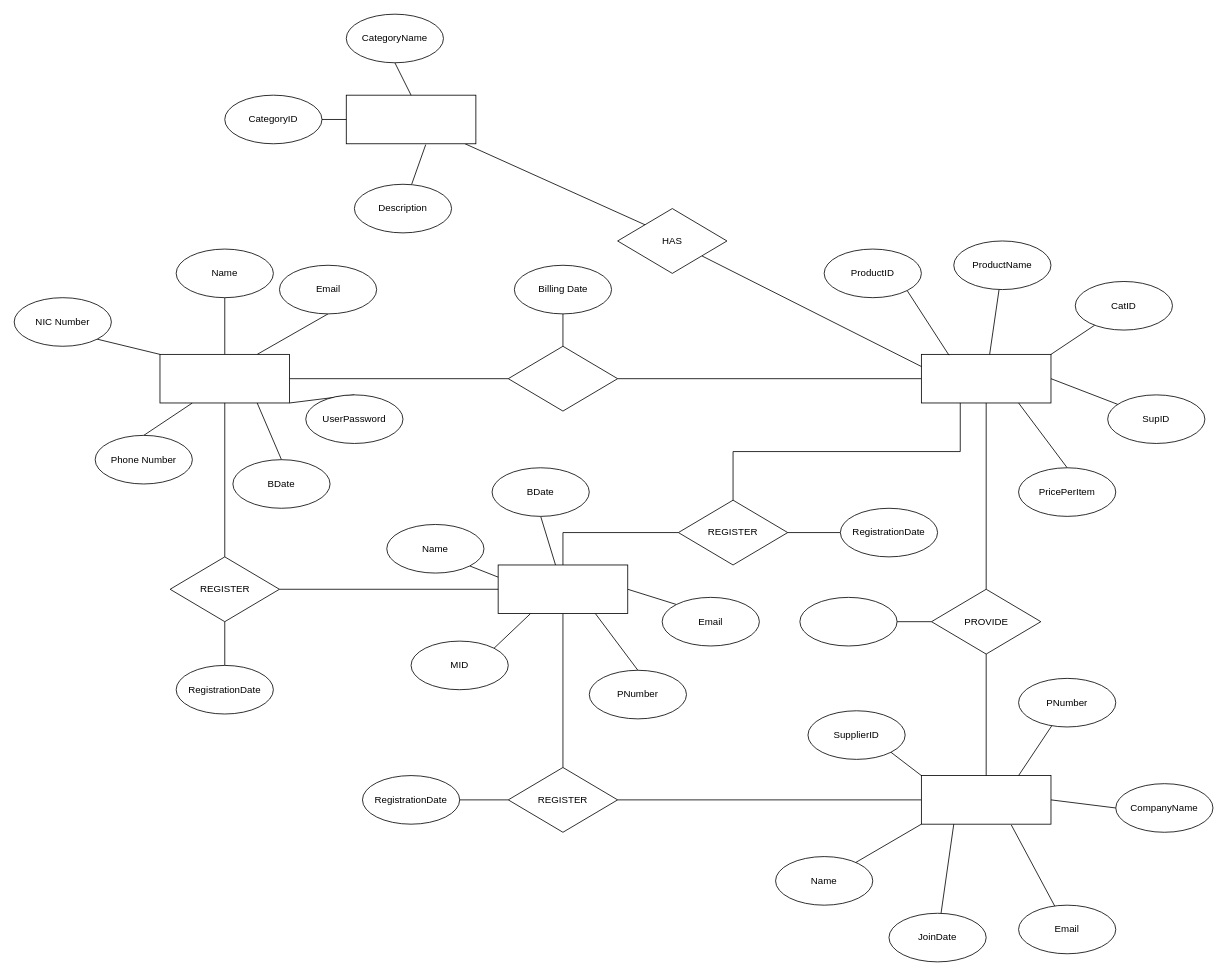
Some shapes in this 1227 by 976 pixel diagram are drawn without their labels. The centre of each missing label's shape, as x and y in pixels:
"AssigningDate" belongs at (848,621).
"BILLING" belongs at (562,378).
"CATEGORY" belongs at (410,119).
"EMPLOYEE" belongs at (224,378).
"MANAGER" belongs at (562,589).
"PRODUCTS" belongs at (986,378).
"SUPPLIER" belongs at (986,799).
